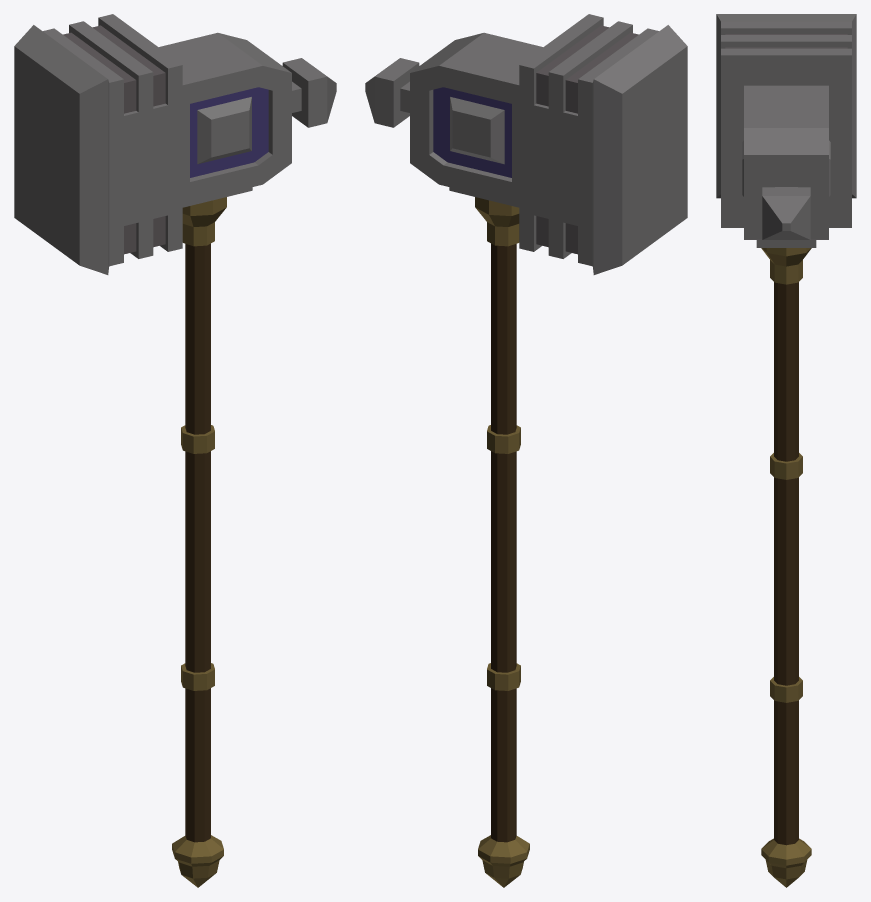
The model's file is gravity-hammer.glb.
The picture shows the model from 3 angles, left to right: view 1: azimuth 30°, elevation 25°; view 2: azimuth 150°, elevation 25°; view 3: azimuth 270°, elevation 25°; orthographic projection. The views are drawn at different scales.
Parts seen in each view (by area): view 1: 2H - Gravity Hammer - Proxy Games; view 2: 2H - Gravity Hammer - Proxy Games; view 3: 2H - Gravity Hammer - Proxy Games.
Boxes of the visible parts, <box> form: 2H - Gravity Hammer - Proxy Games: <box>14,14,336,887</box>; 2H - Gravity Hammer - Proxy Games: <box>365,14,687,887</box>; 2H - Gravity Hammer - Proxy Games: <box>716,14,856,887</box>.
Size of the model in its own units: 0.5998 by 1.73 by 0.2692.
